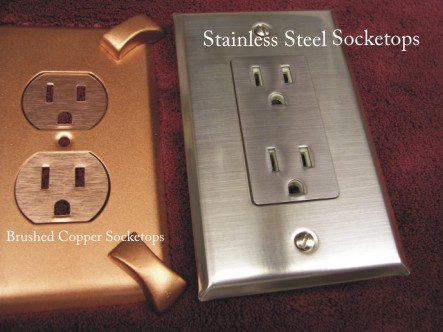outlet: (264, 144, 318, 200), (37, 162, 89, 219), (42, 79, 90, 128), (247, 61, 296, 109)
